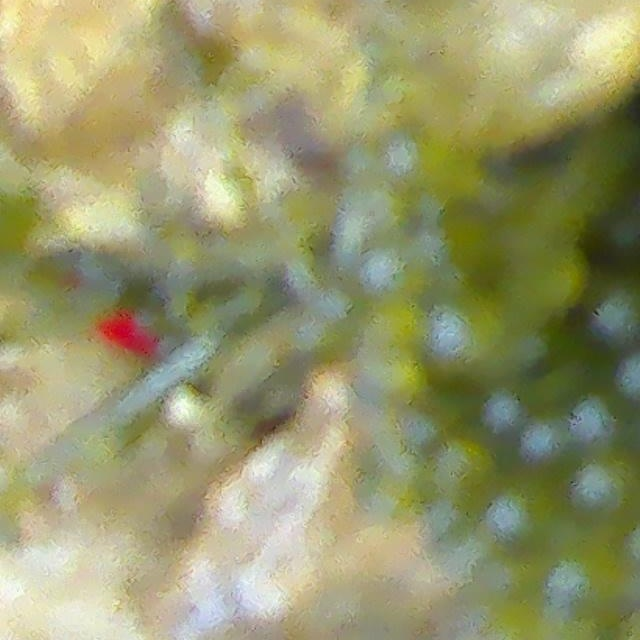SeaGrape: (546, 531, 629, 616), (485, 474, 561, 549), (568, 453, 640, 523)
